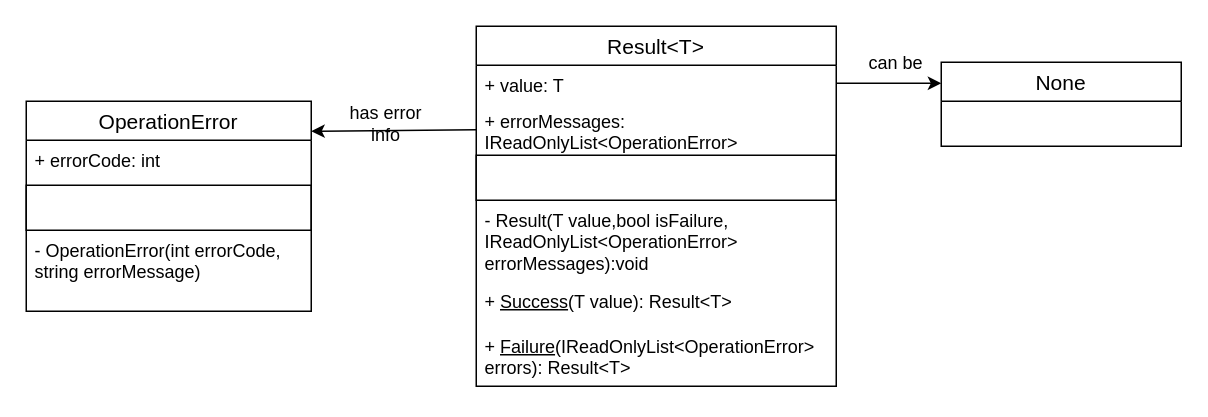
This 1208x417 diagram has some shape labels left out. Here are the shapes that lost their labels. From the top down, the box of each, then its label:
(475, 154, 836, 200): + isFailure: bool
(25, 184, 311, 230): + errorMessage: string
